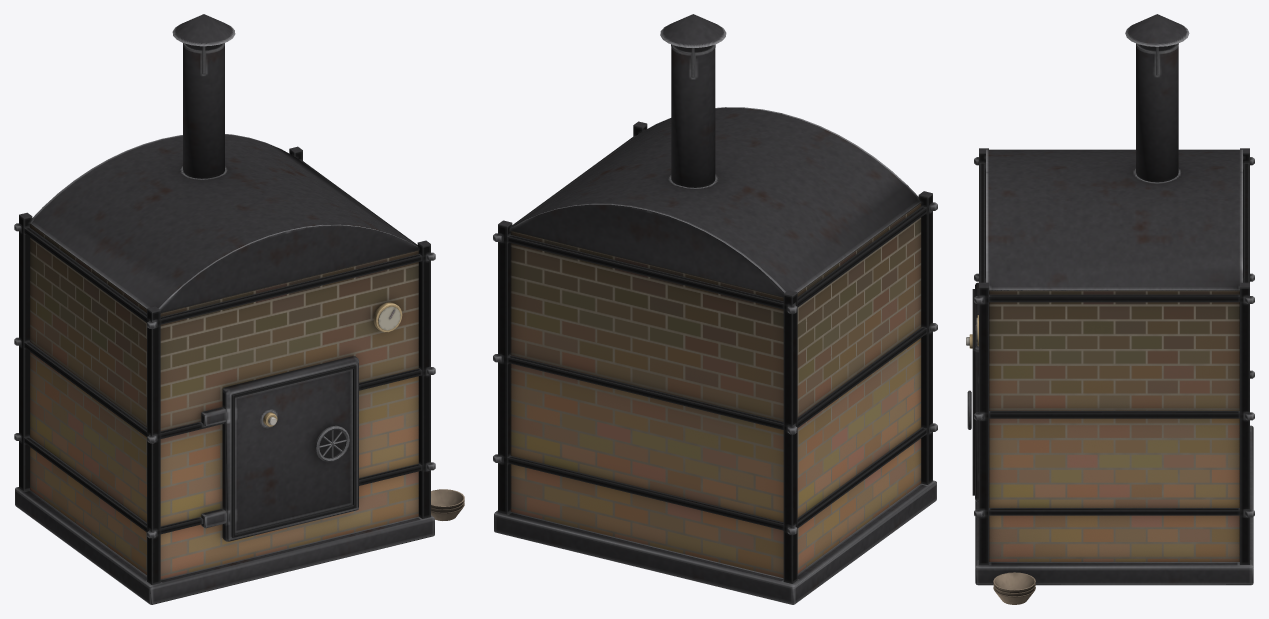
The model's file is Kiln.fbx.
3 renders of one model, left to right at view 1: azimuth 30°, elevation 25°; view 2: azimuth 150°, elevation 25°; view 3: azimuth 270°, elevation 25°, orthographic. The views are drawn at different scales.
Parts seen in each view (by area): view 1: Kiln; view 2: Kiln; view 3: Kiln.
Part boxes in pixels (box(x1,y1,x2,y2)): Kiln: box(14, 14, 464, 604); Kiln: box(493, 14, 937, 604); Kiln: box(966, 14, 1254, 604).
Bounding box in the file's own units: 546 × 775 × 405.
